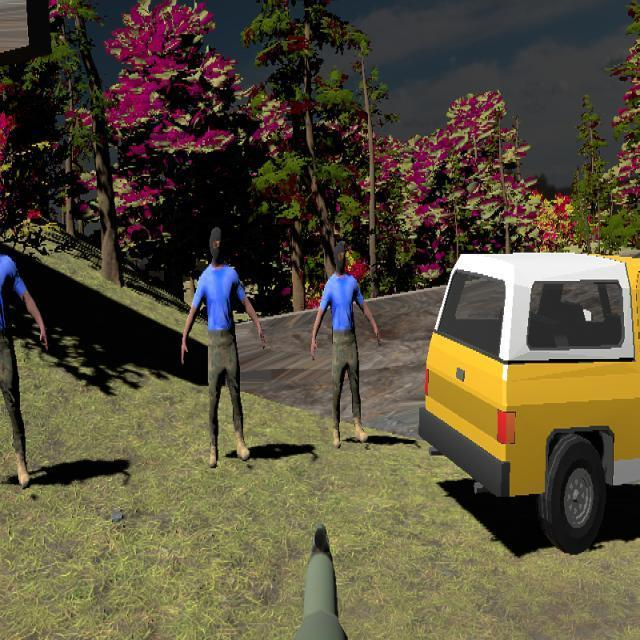Human: (180, 224, 265, 463), (0, 196, 49, 499), (311, 239, 380, 448)
car: (420, 252, 640, 547)
